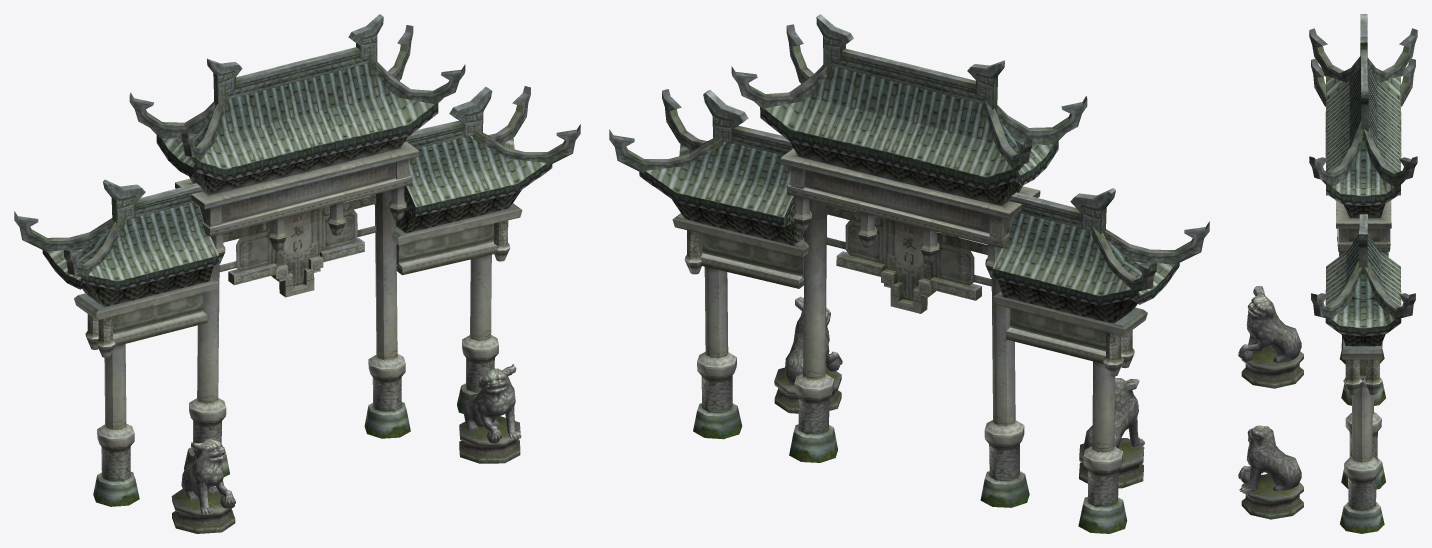
Rendered from Hangzhou_wj_060.FBX.
3 views of the same model, side by side, from view 1: azimuth 30°, elevation 25°; view 2: azimuth 150°, elevation 25°; view 3: azimuth 270°, elevation 25° (orthographic). The views are drawn at different scales.
Visible parts, largest first — view 1: Hangzhou_qingpomen; view 2: Hangzhou_qingpomen; view 3: Hangzhou_qingpomen.
Part boxes in pixels (x1,y1,x2,y2): Hangzhou_qingpomen: (14, 14, 580, 533); Hangzhou_qingpomen: (609, 14, 1209, 533); Hangzhou_qingpomen: (1238, 14, 1417, 533).
Size of the model in its own units: 2037 by 1565 by 654.
1 material, 1 textured.
